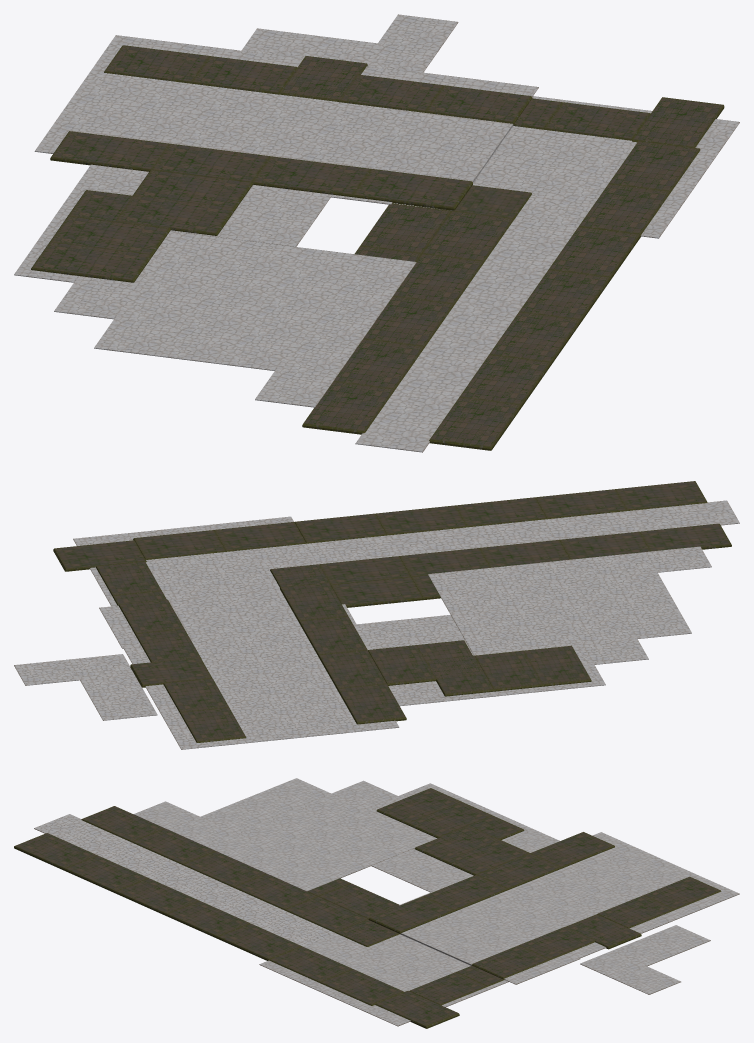
3 renders of one model, top to bottom at view 1: azimuth 30°, elevation 25°; view 2: azimuth 150°, elevation 25°; view 3: azimuth 270°, elevation 25°, orthographic. The views are drawn at different scales.
Parts seen in each view (by area): view 1: Base; view 2: Base; view 3: Base.
Part boxes in pixels (x1,y1,x2,y2): Base: (14,14,739,452); Base: (14,481,739,749); Base: (14,778,739,1028).
Bounding box in the file's own units: 7692 × 107 × 9511.
